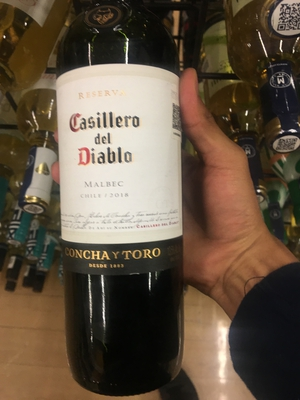casillero del diablo malbec: (43, 29, 199, 363)
